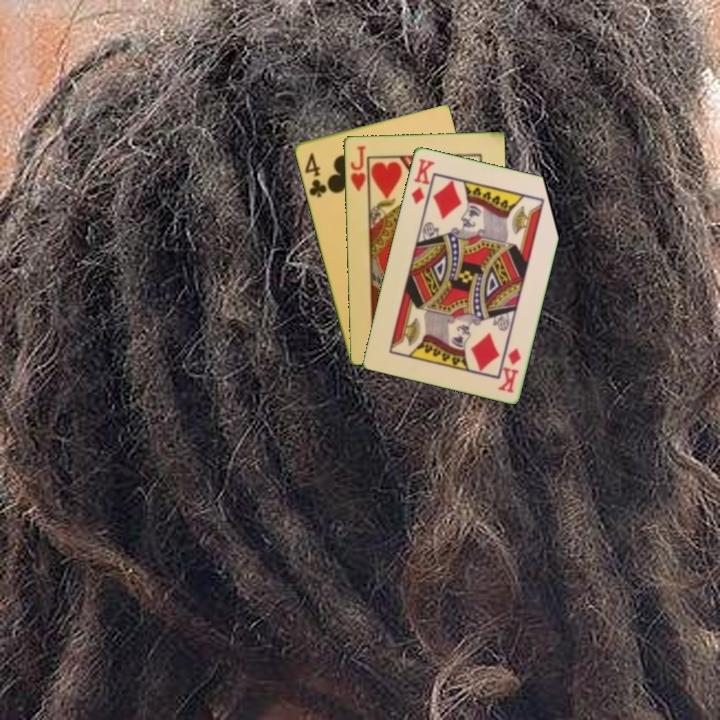4c: (301, 149, 330, 200)
Jh: (347, 142, 371, 198)
Kd: (407, 155, 438, 207), (495, 344, 524, 395)
